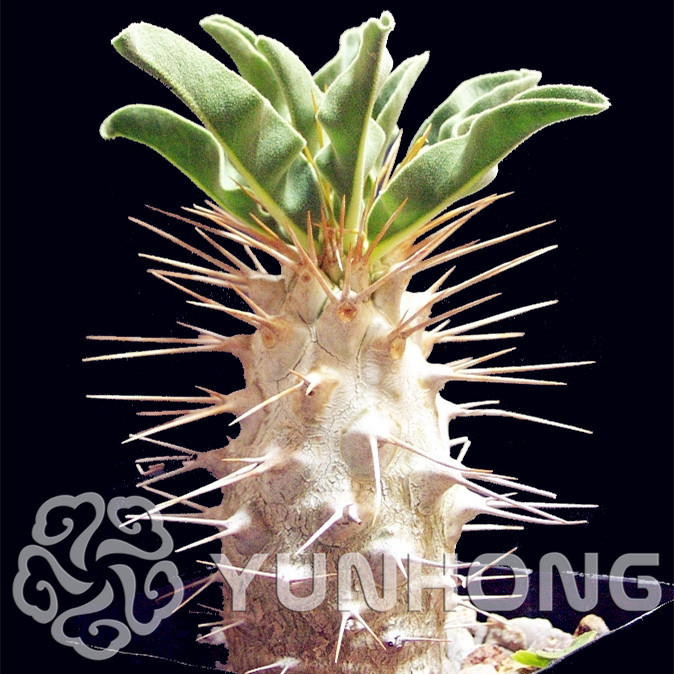Pachypodium saundersii: (87, 11, 609, 667)
